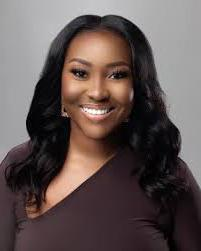Sober: (67, 32, 133, 132)
